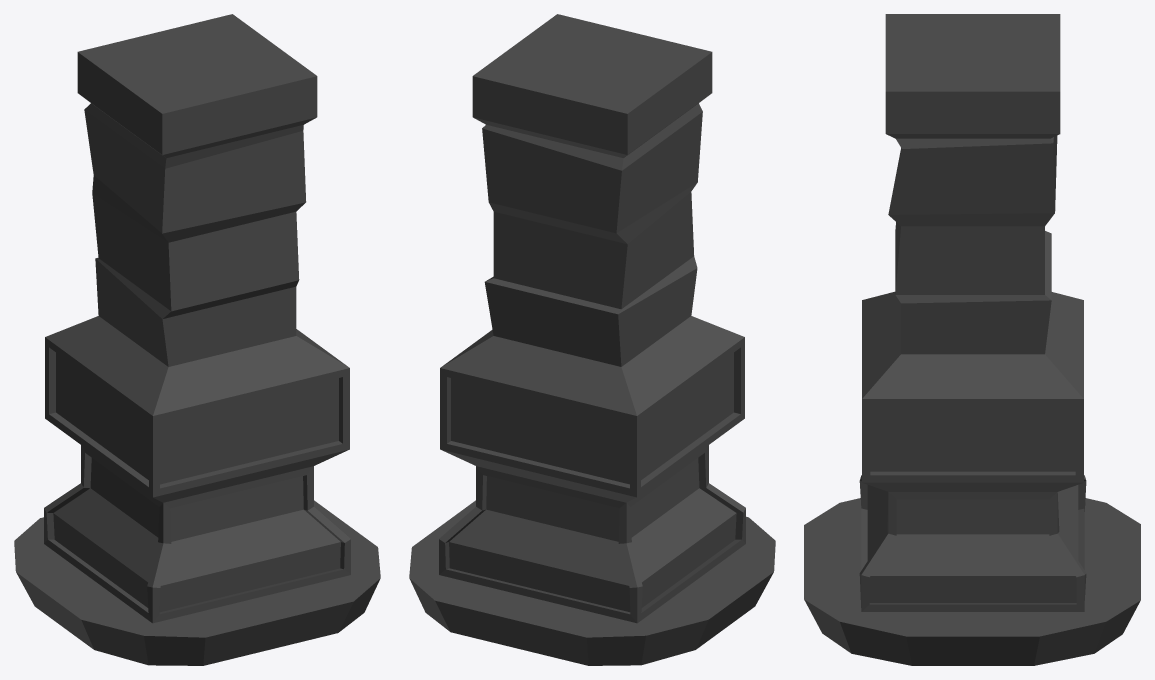
The model's file is Pillar.fbx.
3 renders of one model, left to right at view 1: azimuth 30°, elevation 25°; view 2: azimuth 150°, elevation 25°; view 3: azimuth 270°, elevation 25°, orthographic. The views are drawn at different scales.
Visible parts, largest first — view 1: Box029; view 2: Box029; view 3: Box029.
Part boxes in pixels (<box>): Box029: <box>14,14,380,665</box>; Box029: <box>409,14,775,665</box>; Box029: <box>804,14,1140,665</box>.
Bounding box in the file's own units: 65.77 × 113 × 62.83.
Materials: 1 (1 with a texture image).
